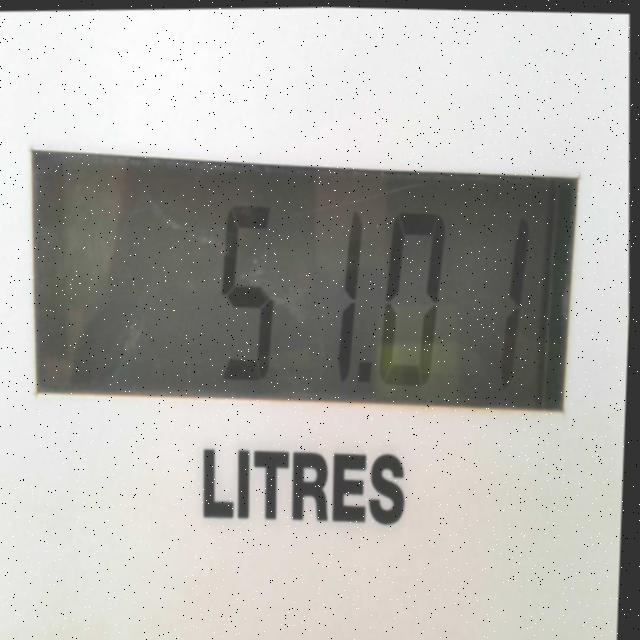.: (355, 353, 380, 400)
0: (369, 188, 461, 422)
1: (472, 198, 555, 413), (303, 201, 378, 406)
5: (204, 202, 300, 398)
